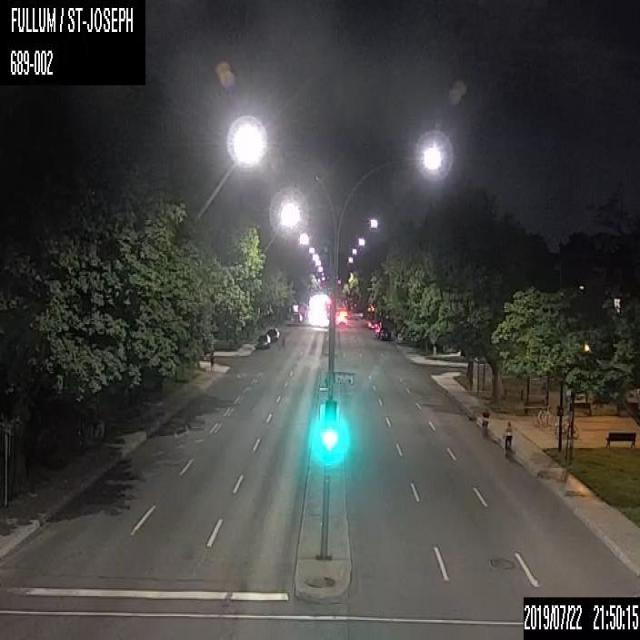cyclist: (502, 421, 512, 459)
pedestrian: (480, 406, 489, 437), (208, 349, 214, 371)
vehicle: (254, 332, 270, 348), (265, 327, 279, 340), (377, 327, 390, 340)
